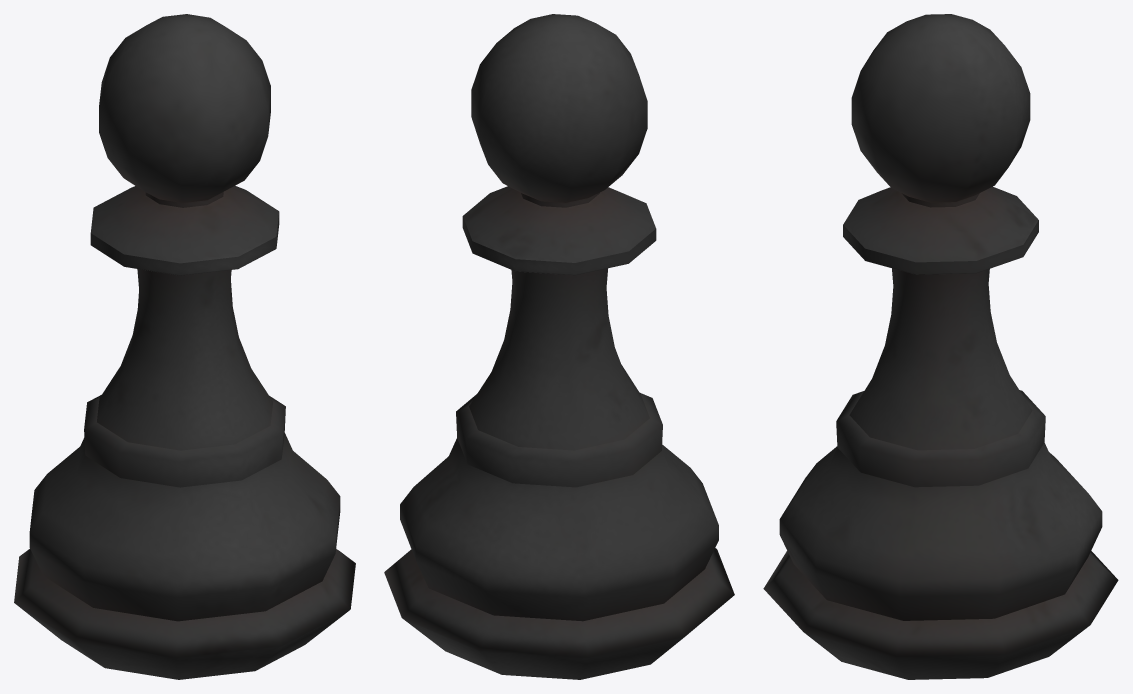
Rendered from item-0.glb.
3 renders of one model, left to right at view 1: azimuth 30°, elevation 25°; view 2: azimuth 150°, elevation 25°; view 3: azimuth 270°, elevation 25°, orthographic.
Parts seen in each view (by area): view 1: BlackPawn; view 2: BlackPawn; view 3: BlackPawn.
Boxes of the visible parts, x1=… form: BlackPawn: x1=14, y1=14, x2=355, y2=679; BlackPawn: x1=384, y1=14, x2=734, y2=679; BlackPawn: x1=763, y1=14, x2=1118, y2=679.
Size of the model in its own units: 0.0889 by 0.1731 by 0.0918.
1 material, 1 textured.
